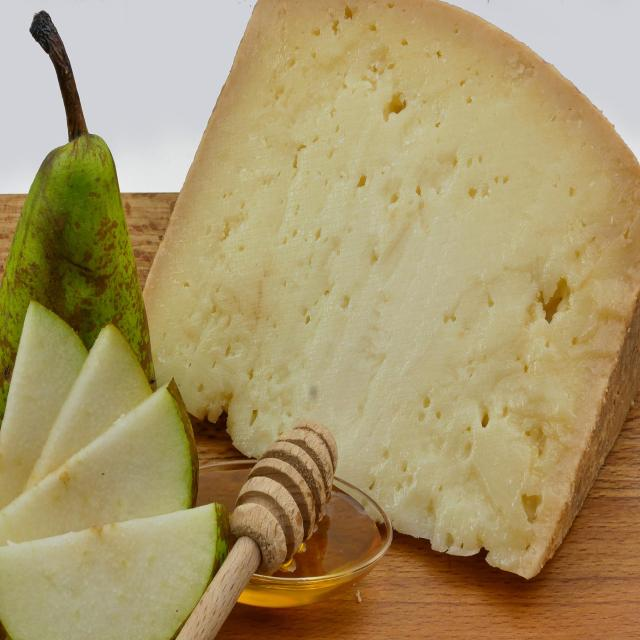Cheese: (140, 0, 634, 582), (0, 309, 240, 640)
